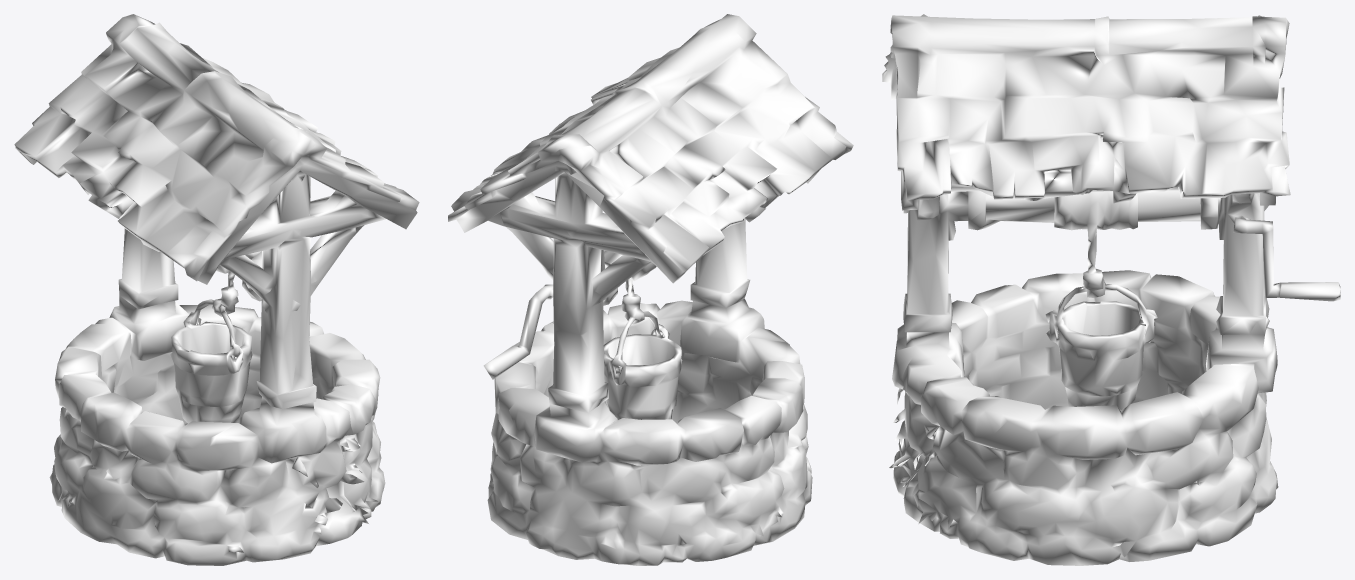
The model's file is well.glb.
3 renders of one model, left to right at view 1: azimuth 30°, elevation 25°; view 2: azimuth 150°, elevation 25°; view 3: azimuth 270°, elevation 25°, orthographic. The views are drawn at different scales.
Visible parts, largest first — view 1: well; view 2: well; view 3: well.
Boxes of the visible parts, x1,y1,x2,y2 form: well: [14, 14, 419, 565]; well: [448, 14, 853, 565]; well: [882, 14, 1340, 565].
Size of the model in its own units: 2.07 by 2.9 by 2.56.
Materials: 1 (1 with a texture image).
